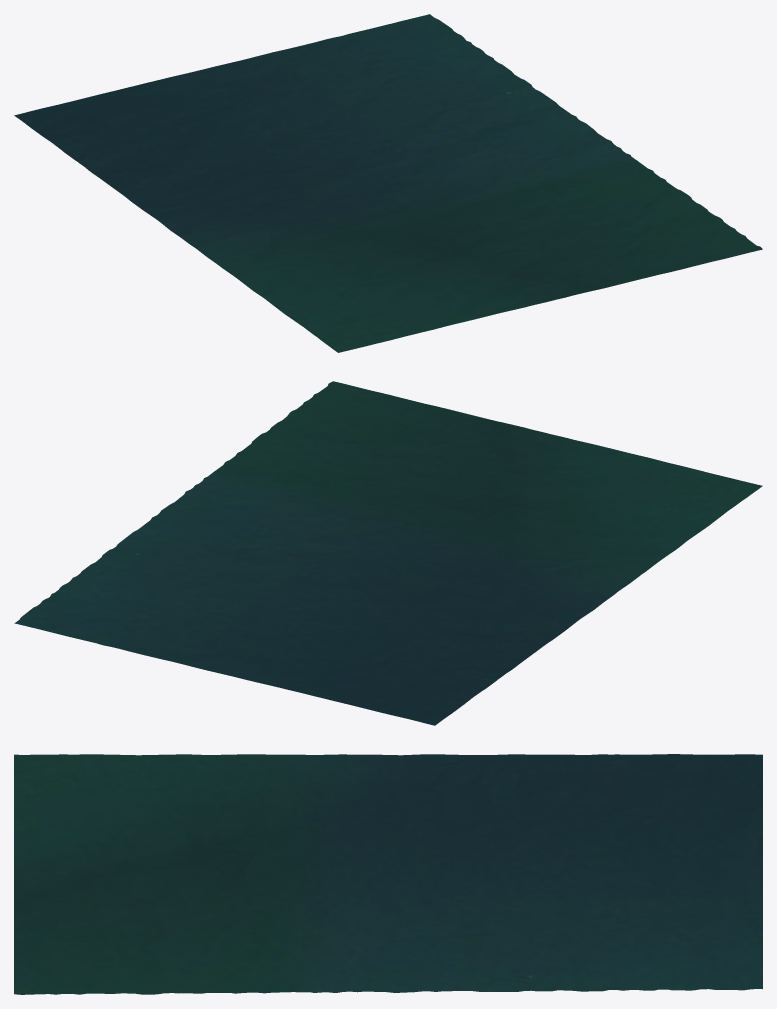
3 views of the same model, one above another, from view 1: azimuth 30°, elevation 25°; view 2: azimuth 150°, elevation 25°; view 3: azimuth 270°, elevation 25° (orthographic). The views are drawn at different scales.
Bounding box in the file's own units: 317 × 1.19 × 418.
Materials: 2 (2 with a texture image).
